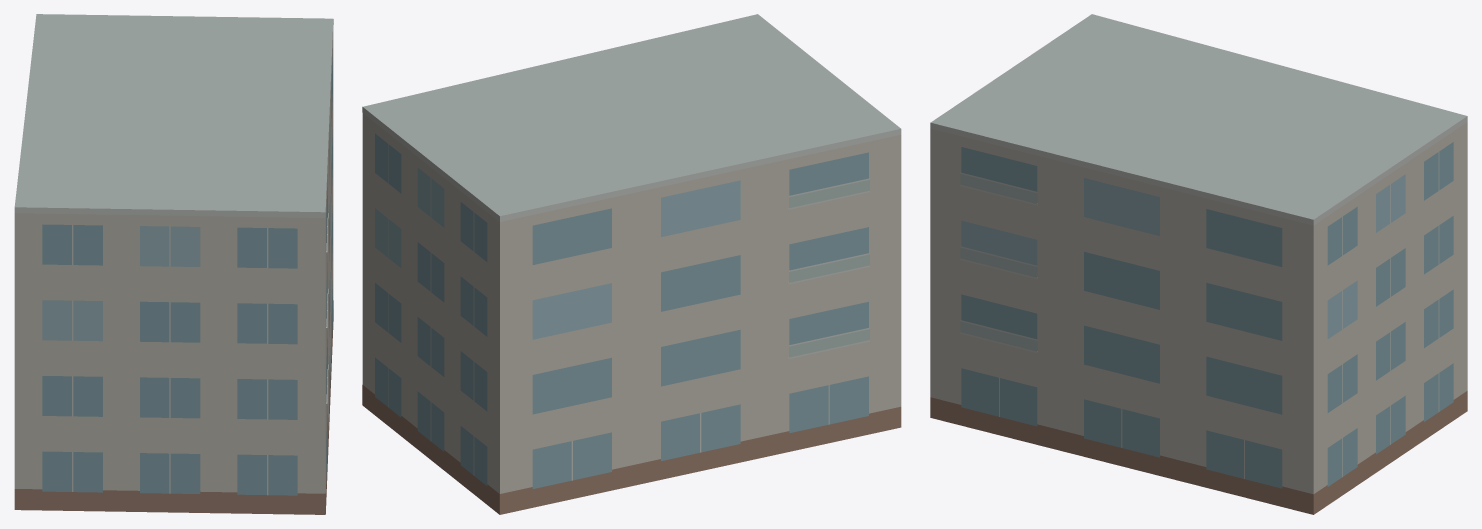
File: survey-upis-32958149.glb
3 renders of one model, left to right at view 1: azimuth 30°, elevation 25°; view 2: azimuth 150°, elevation 25°; view 3: azimuth 270°, elevation 25°, orthographic. The views are drawn at different scales.
Visible parts, largest first — view 1: survey-upis-32958149.tmp; view 2: survey-upis-32958149.tmp; view 3: survey-upis-32958149.tmp.
Part boxes in pixels (<box>): survey-upis-32958149.tmp: <box>14,14,333,514</box>; survey-upis-32958149.tmp: <box>362,14,901,514</box>; survey-upis-32958149.tmp: <box>930,14,1467,514</box>.
Bounding box in the file's own units: 18.7 × 12.5 × 20.62.
